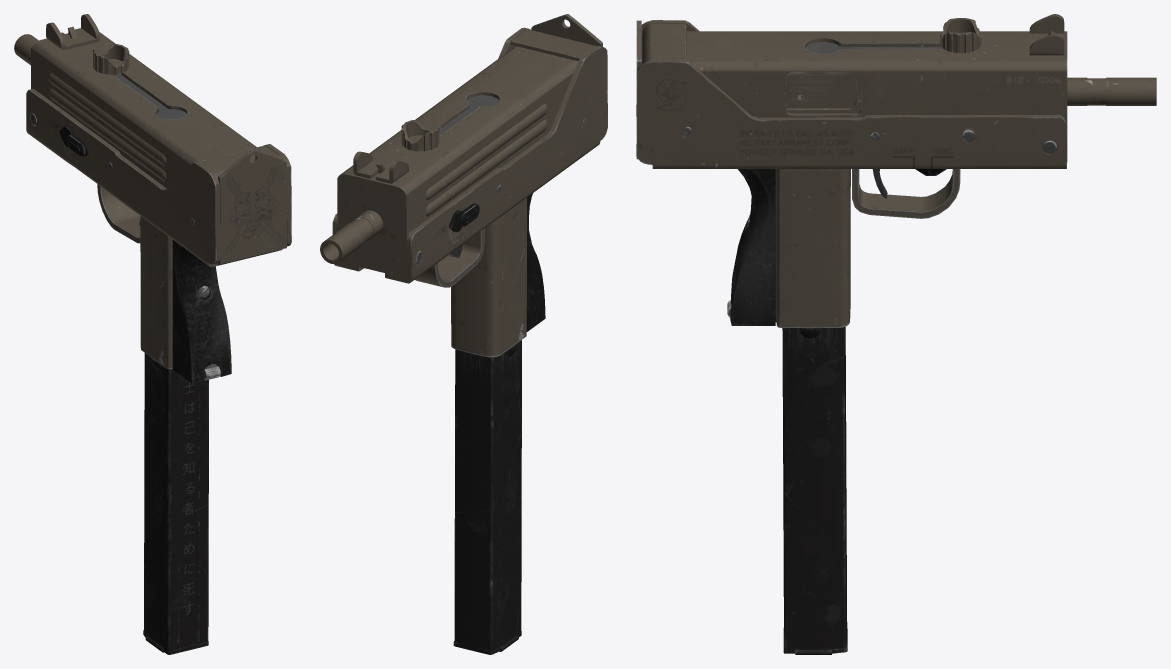
Rendered from g_mac10.glb.
3 views of the same model, side by side, from view 1: azimuth 30°, elevation 25°; view 2: azimuth 150°, elevation 25°; view 3: azimuth 270°, elevation 25° (orthographic). The views are drawn at different scales.
Parts seen in each view (by area): view 1: PART_04, PART_06, PART_02, PART_01, PART_03, PART_05; view 2: PART_04, PART_02, PART_01, PART_06, PART_05, PART_03; view 3: PART_01, PART_02, PART_04, PART_05, PART_06, PART_03.
Boxes of the visible parts, left/top/right/bottom form: PART_04: left=93, top=44, right=208, bottom=650; PART_06: left=14, top=14, right=286, bottom=380; PART_02: left=31, top=32, right=256, bottom=188; PART_01: left=26, top=88, right=291, bottom=267; PART_03: left=172, top=240, right=231, bottom=383; PART_05: left=140, top=216, right=172, bottom=369; PART_04: left=401, top=120, right=521, bottom=650; PART_02: left=337, top=46, right=578, bottom=278; PART_01: left=332, top=27, right=607, bottom=283; PART_06: left=320, top=14, right=602, bottom=287; PART_05: left=451, top=198, right=526, bottom=357; PART_03: left=526, top=193, right=545, bottom=331; PART_01: left=636, top=20, right=1066, bottom=168; PART_02: left=686, top=31, right=1067, bottom=162; PART_04: left=782, top=18, right=981, bottom=649; PART_05: left=775, top=169, right=850, bottom=327; PART_06: left=636, top=14, right=1156, bottom=317; PART_03: left=730, top=169, right=775, bottom=325.
Size of the model in its own units: 0.022 by 0.1392 by 0.1053.
Materials: 1 (1 with a texture image).
